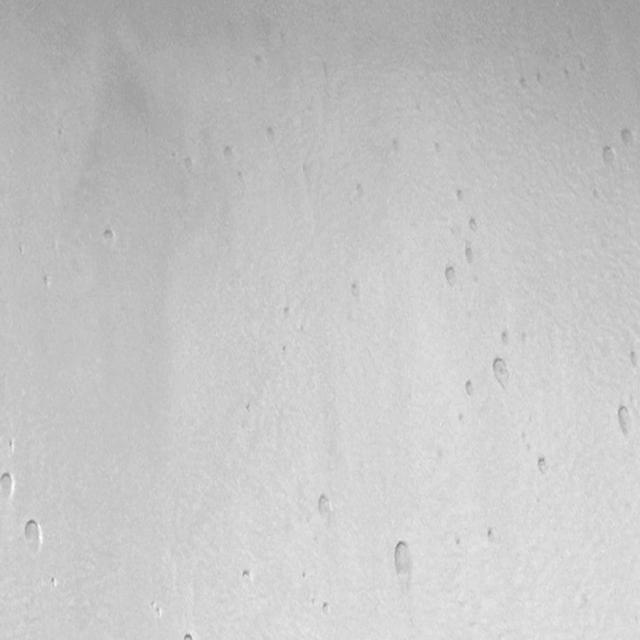pin holes: (388, 538, 414, 581), (613, 404, 639, 444), (20, 519, 44, 556), (487, 357, 511, 388), (312, 491, 334, 519), (441, 263, 461, 290), (600, 146, 620, 172), (618, 124, 637, 150), (0, 472, 16, 502), (99, 227, 119, 250), (262, 122, 281, 146), (352, 181, 371, 203), (465, 215, 483, 238), (462, 244, 479, 268), (388, 136, 407, 157), (536, 453, 553, 476), (626, 350, 640, 376), (463, 376, 479, 398), (347, 280, 363, 302), (515, 74, 533, 93), (452, 186, 468, 206), (41, 271, 56, 291), (182, 155, 197, 174), (234, 168, 249, 186), (223, 145, 237, 164), (240, 568, 254, 586), (278, 341, 292, 359), (319, 601, 332, 620), (500, 329, 513, 348), (432, 139, 446, 156), (518, 330, 530, 349), (485, 528, 498, 545), (152, 603, 165, 620), (6, 438, 18, 456), (455, 409, 467, 426), (242, 400, 254, 417), (452, 536, 464, 552), (280, 304, 292, 320), (49, 574, 60, 591), (183, 629, 199, 639), (167, 150, 179, 163), (300, 571, 312, 582)
